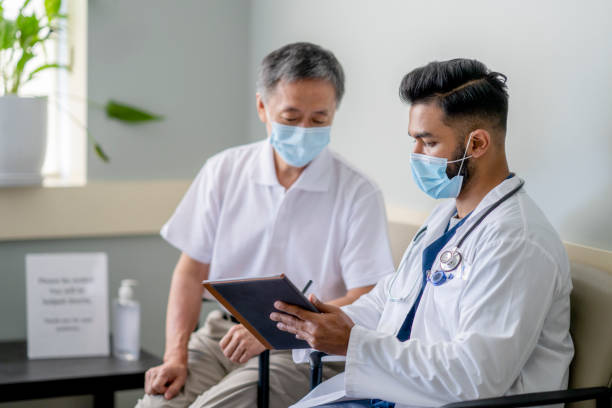with mask: (397, 93, 496, 202), (256, 75, 346, 171)
